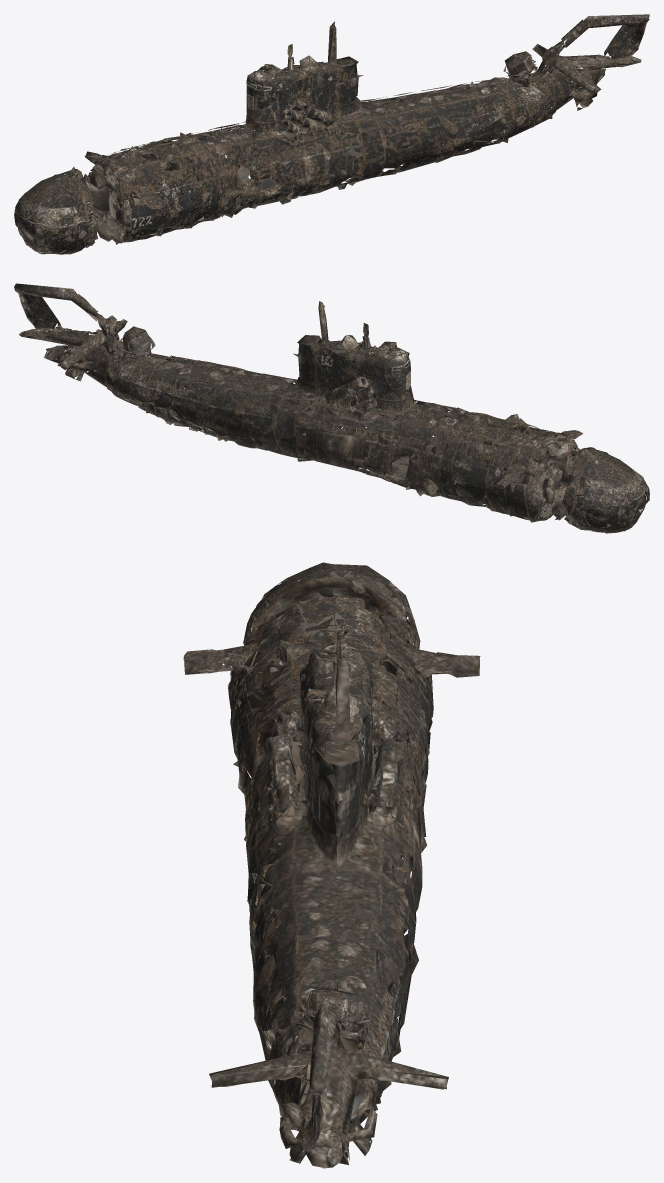
The model's file is submarino.fbx.
The picture shows the model from 3 angles, top to bottom: view 1: azimuth 30°, elevation 25°; view 2: azimuth 150°, elevation 25°; view 3: azimuth 270°, elevation 25°; orthographic projection. The views are drawn at different scales.
Parts seen in each view (by area): view 1: submarino; view 2: submarino; view 3: submarino.
Part boxes in pixels (<box>): submarino: <box>14,14,649,254</box>; submarino: <box>14,283,649,533</box>; submarino: <box>183,562,480,1168</box>.
Size of the model in its own units: 14 by 3.42 by 2.88.
1 material, 1 textured.
